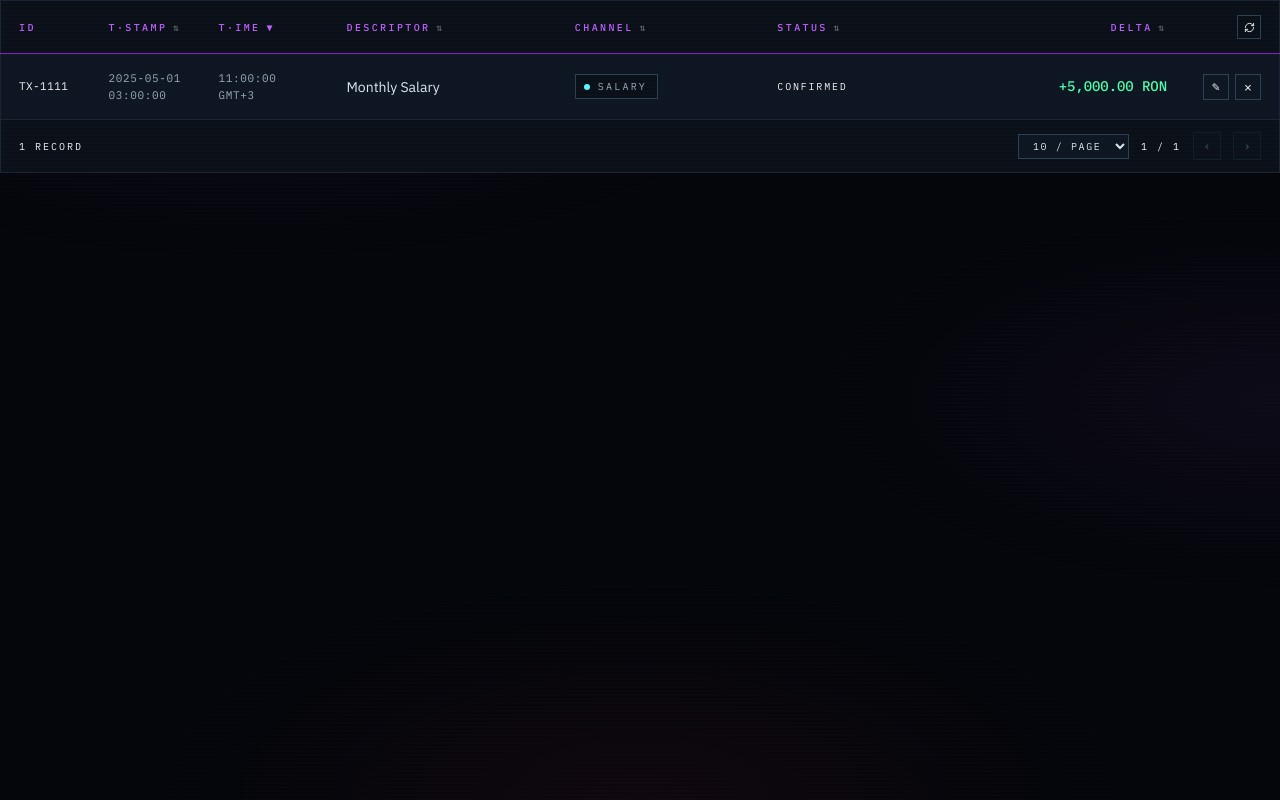
Test: TransactionsTable › edit button › opens edit dialog when edit button is clicked
Click the button "✎": (1216, 86) [1203,74,1229,100]
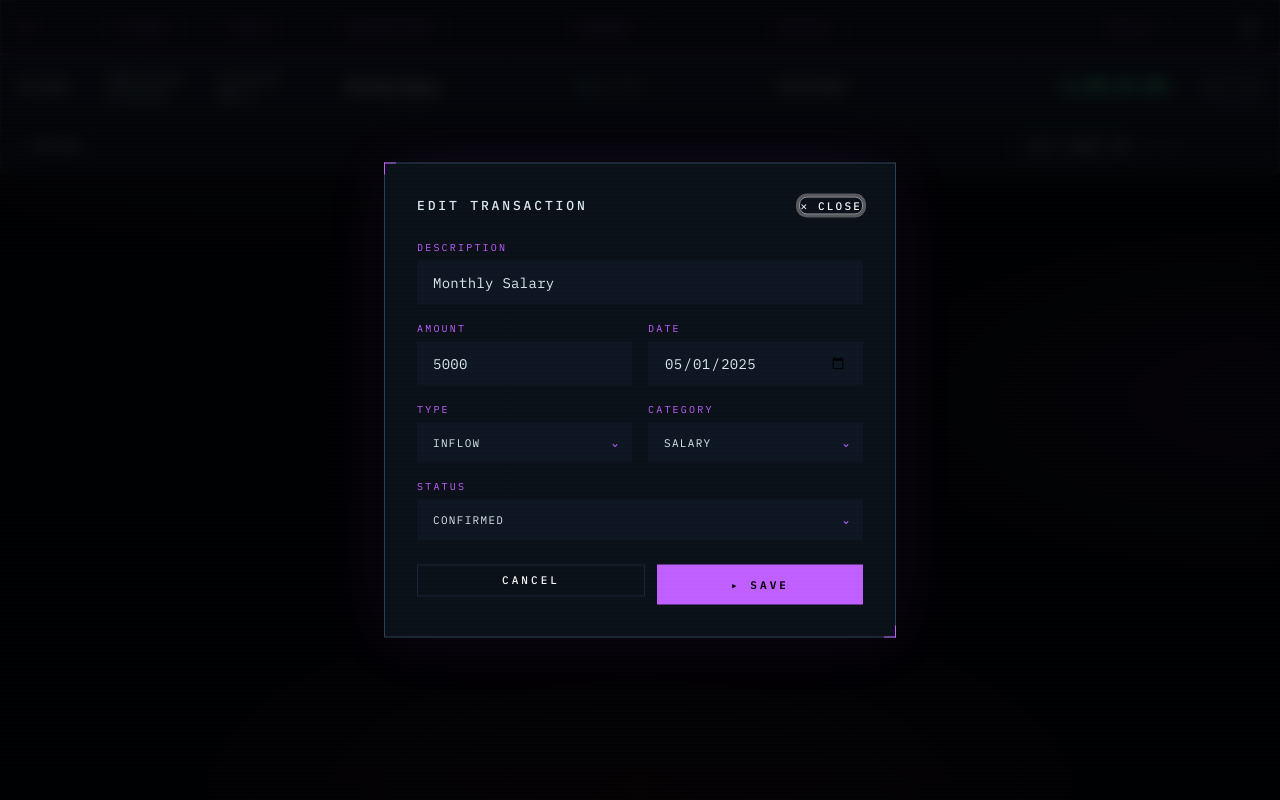
Expected: the heading "Edit Transaction" is shown, [417,196,588,215]
